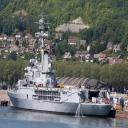Portanaves: (7, 12, 115, 118)
